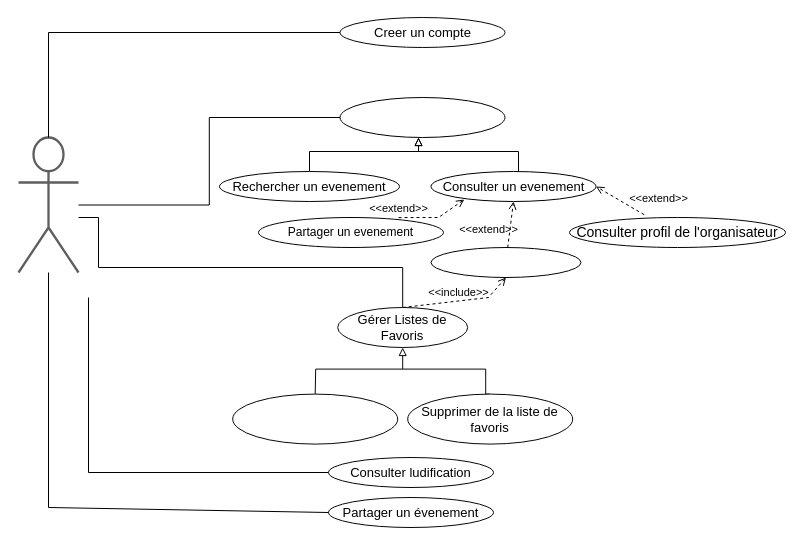
Image size: 803x545. Some labels were removed from this diagram. The box of each missing label's shape, as (x1, y1, x2, y2) in pixels:
Ajouter au favoris: (430, 246, 581, 278)
Consulter la liste des evenements: (339, 96, 505, 138)
Consulter les informations de l'evenemts: (232, 393, 398, 444)
Visiteur: (17, 136, 79, 273)
